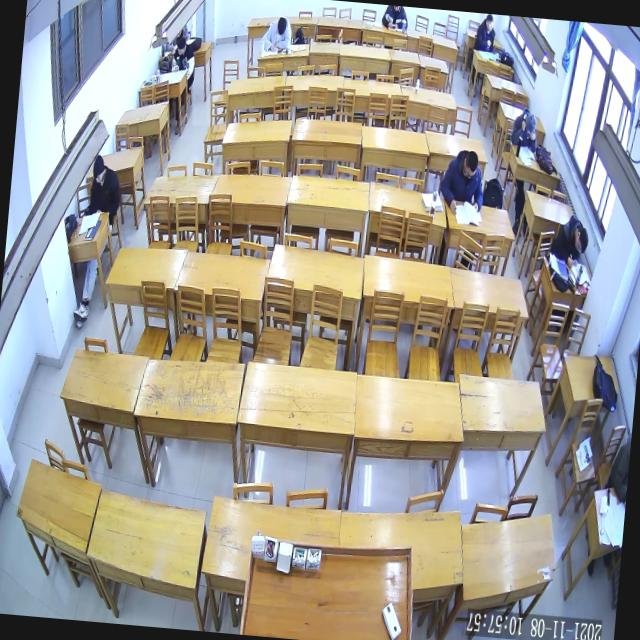bow: (260, 12, 294, 54)
down: (461, 148, 480, 182), (572, 225, 590, 257), (90, 152, 106, 186), (522, 110, 538, 138), (274, 14, 288, 37), (175, 36, 188, 58)
sit: (436, 144, 486, 217), (86, 152, 125, 219), (550, 212, 590, 270), (508, 106, 540, 152), (169, 34, 197, 75), (473, 14, 497, 54)
